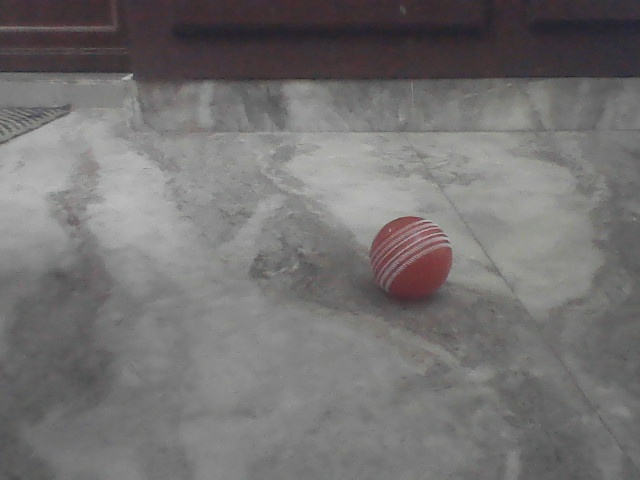cricket_ball: (364, 207, 460, 305)
